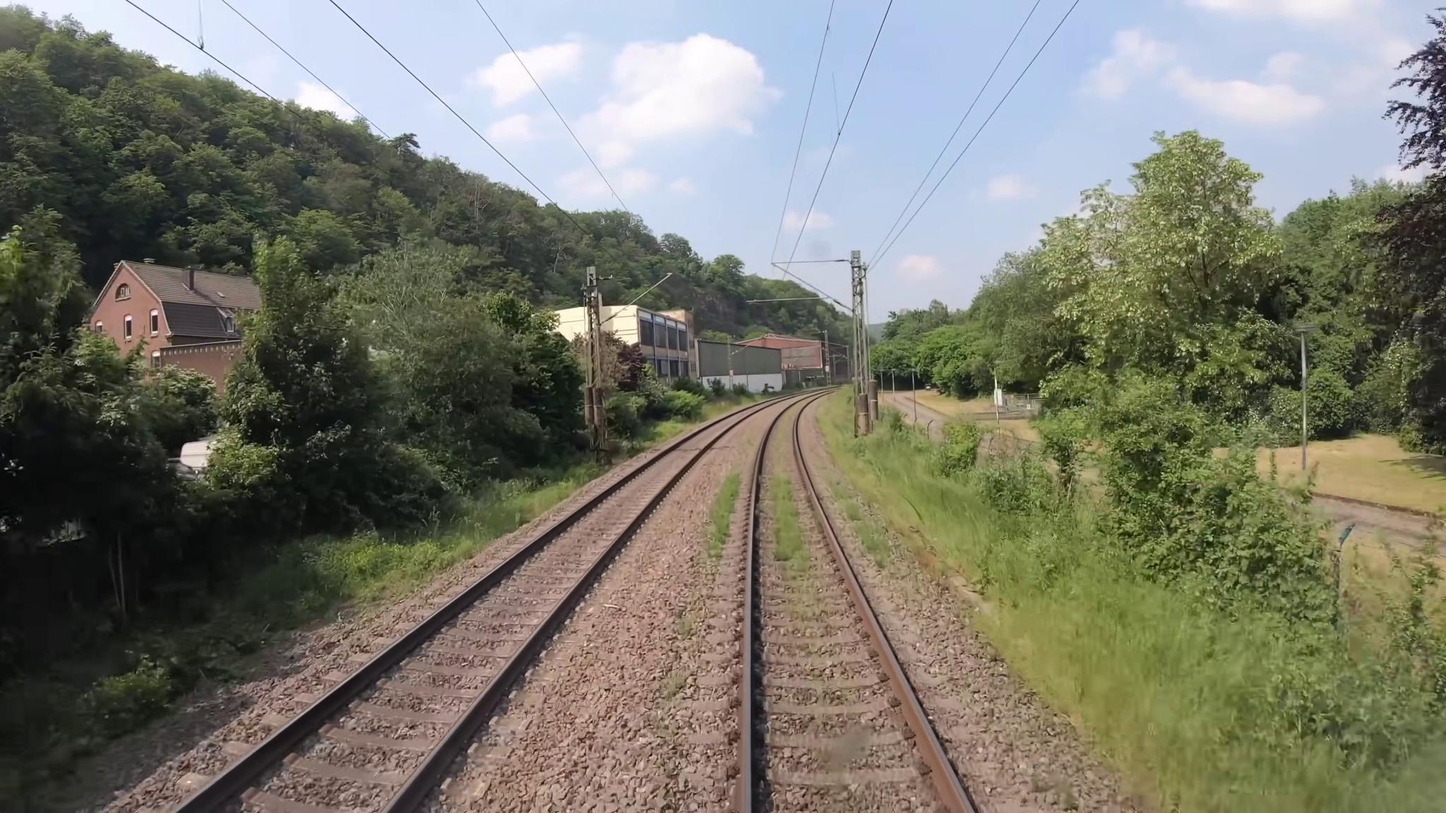Plant: (772, 475, 807, 575), (711, 474, 743, 562)
